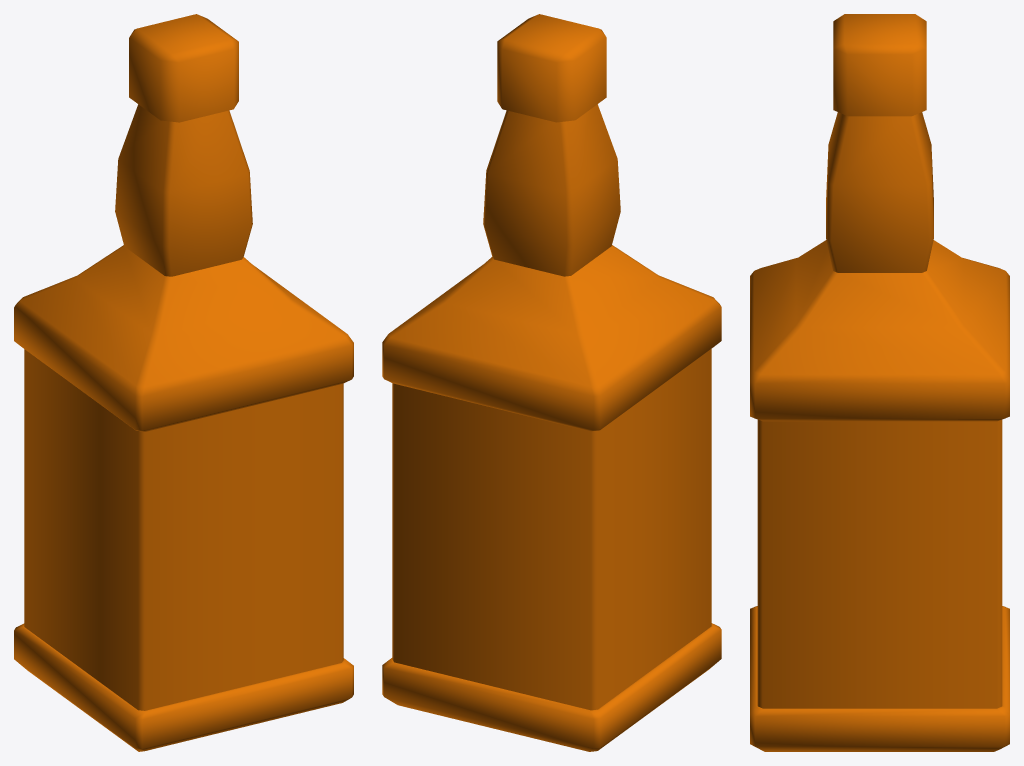
Rendered from SM_Bottle4.fbx.
3 renders of one model, left to right at view 1: azimuth 30°, elevation 25°; view 2: azimuth 150°, elevation 25°; view 3: azimuth 270°, elevation 25°, orthographic. The views are drawn at different scales.
Visible parts, largest first — view 1: SM_Bottle4; view 2: SM_Bottle4; view 3: SM_Bottle4.
Part boxes in pixels (left/top/right/bottom): SM_Bottle4: left=14, top=14, right=353, bottom=751; SM_Bottle4: left=382, top=14, right=721, bottom=751; SM_Bottle4: left=750, top=14, right=1009, bottom=751.
Size of the model in its own units: 50 by 143 by 50.
